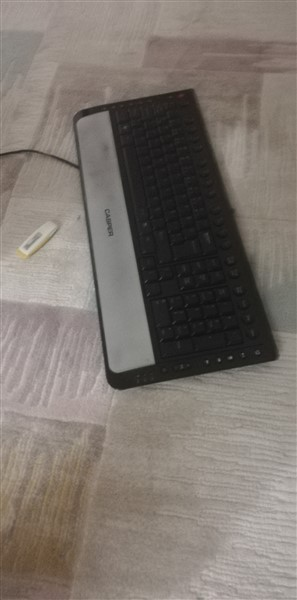flash disk: (16, 221, 63, 263)
klavye: (63, 90, 285, 391)
